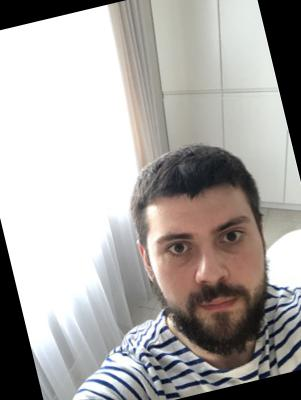without_mask: (145, 199, 288, 369)
